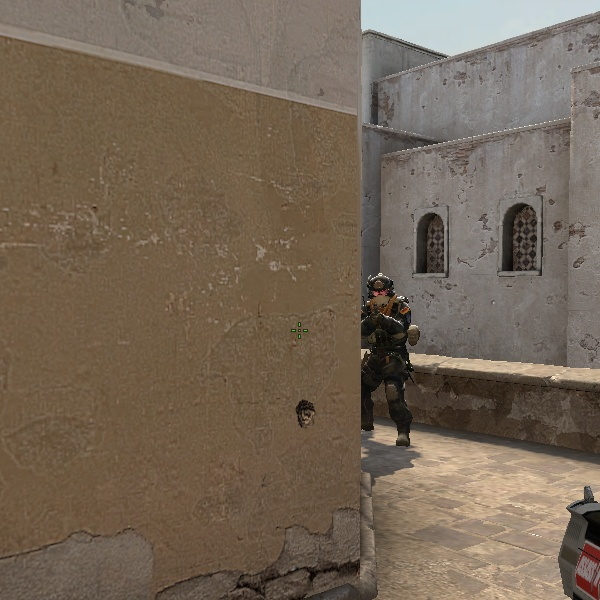ct_body: (351, 271, 428, 449)
ct_head: (362, 271, 402, 311)
